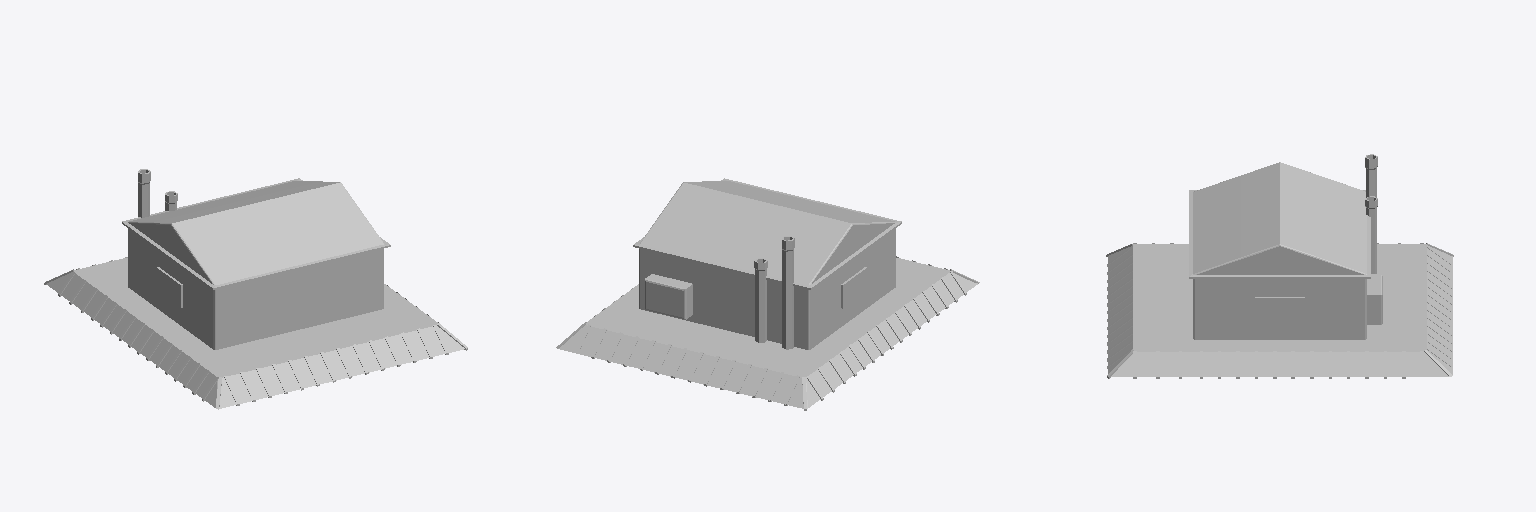
Rendered from atap.obj.
3 renders of one model, left to right at view 1: azimuth 30°, elevation 25°; view 2: azimuth 150°, elevation 25°; view 3: azimuth 270°, elevation 25°, orthographic.
Visible parts, largest first — view 1: Shop_Low_5; view 2: Shop_Low_5; view 3: Shop_Low_5.
Boxes of the visible parts, x1=… form: Shop_Low_5: x1=44, y1=169, x2=467, y2=409; Shop_Low_5: x1=556, y1=178, x2=979, y2=410; Shop_Low_5: x1=1106, y1=154, x2=1453, y2=378.
Size of the model in its own units: 13.84 by 7 by 16.52.